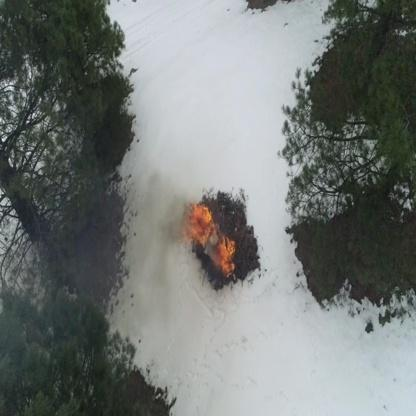Fire: (190, 202, 212, 244), (216, 236, 239, 276)
